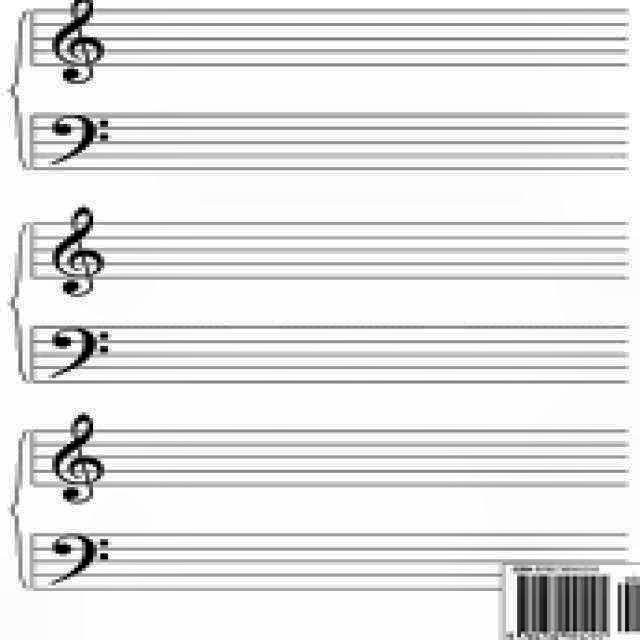Bass-clef: (40, 108, 110, 172), (42, 322, 116, 382), (42, 530, 112, 586)
Treble-clef: (48, 408, 108, 510), (47, 202, 107, 298), (44, 0, 104, 86)
